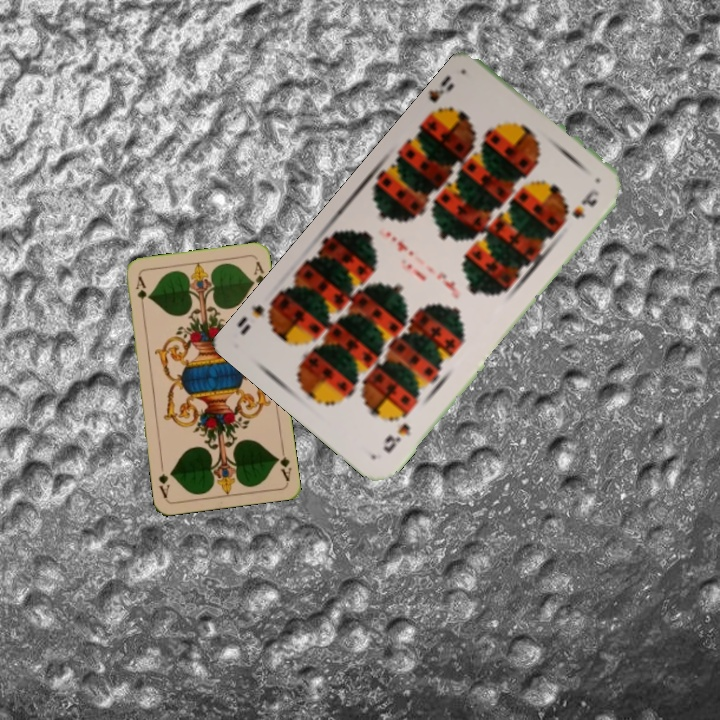GA: (272, 443, 294, 484), (131, 272, 149, 313)
S9: (424, 79, 457, 118), (379, 419, 413, 456)
